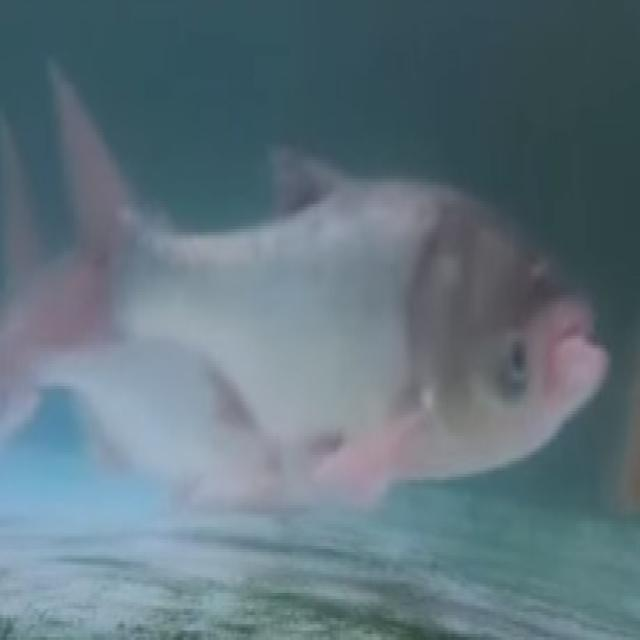Big-Head-Carp: (16, 54, 613, 553)
